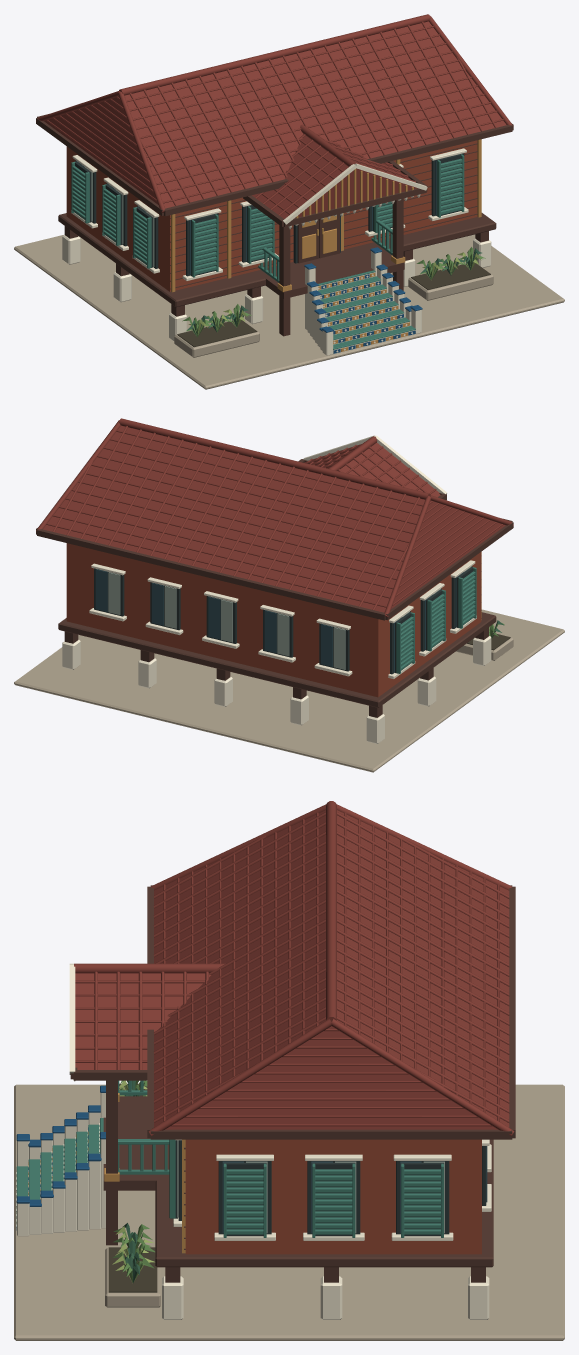
3 views of the same model, one above another, from view 1: azimuth 30°, elevation 25°; view 2: azimuth 150°, elevation 25°; view 3: azimuth 270°, elevation 25° (orthographic). The views are drawn at different scales.
Parts seen in each view (by area): view 1: Roof covering, Raised timber rooms, Louvred shutters, Limewashed stair cheeks, Eave fascia, Garden beds, Casements and sills, Majolica inlays, Bargeboard lace, Entrance joinery, Pandan planting, Balcony joinery; view 2: Raised timber rooms, Roof covering, Casements and sills, Eave fascia, Louvred shutters, Bargeboard lace, Garden beds; view 3: Roof covering, Raised timber rooms, Louvred shutters, Limewashed stair cheeks, Eave fascia, Casements and sills, Garden beds, Pandan planting, Balcony joinery, Bargeboard lace.
Boxes of the visible parts, box(x1,y1,x2,y2) form: Roof covering: box(36, 14, 513, 218); Raised timber rooms: box(14, 139, 564, 389); Louvred shutters: box(71, 154, 464, 277); Limewashed stair cheeks: box(304, 247, 422, 355); Eave fascia: box(36, 114, 513, 227); Garden beds: box(174, 263, 493, 357); Casements and sills: box(71, 148, 468, 280); Majolica inlays: box(318, 273, 415, 353); Bargeboard lace: box(283, 163, 427, 229); Entrance joinery: box(293, 214, 340, 263); Pandan planting: box(182, 247, 485, 337); Balcony joinery: box(258, 220, 392, 282); Raised timber rooms: box(14, 543, 564, 772); Roof covering: box(36, 418, 513, 617); Casements and sills: box(89, 560, 476, 678); Eave fascia: box(36, 459, 513, 620); Louvred shutters: box(395, 566, 476, 673); Bargeboard lace: box(303, 435, 446, 494); Garden beds: box(456, 632, 513, 660); Roof covering: box(74, 801, 514, 1136); Raised timber rooms: box(14, 1080, 564, 1340); Louvred shutters: box(169, 1139, 443, 1237); Limewashed stair cheeks: box(16, 1085, 105, 1236); Eave fascia: box(70, 885, 515, 1139); Casements and sills: box(173, 1139, 491, 1240); Garden beds: box(105, 1083, 160, 1307); Pandan planting: box(112, 1080, 154, 1282); Balcony joinery: box(118, 1080, 169, 1174); Bargeboard lace: box(69, 963, 75, 1081).
Size of the model in its own units: 12.8 by 7.24 by 11.8.
